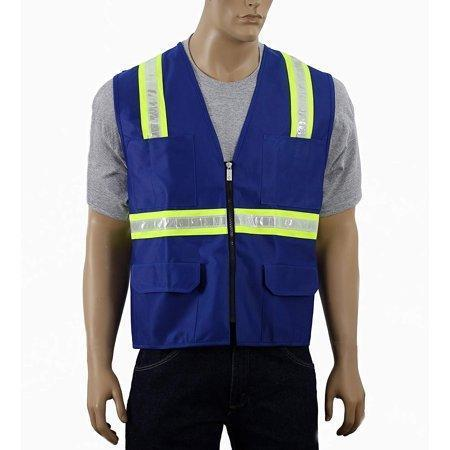vest: (112, 42, 335, 350)
